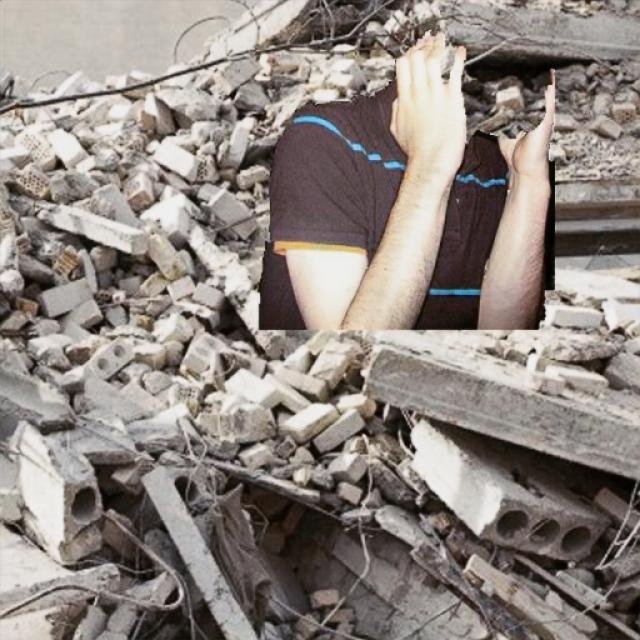Person in Rubble: (257, 30, 554, 329)
